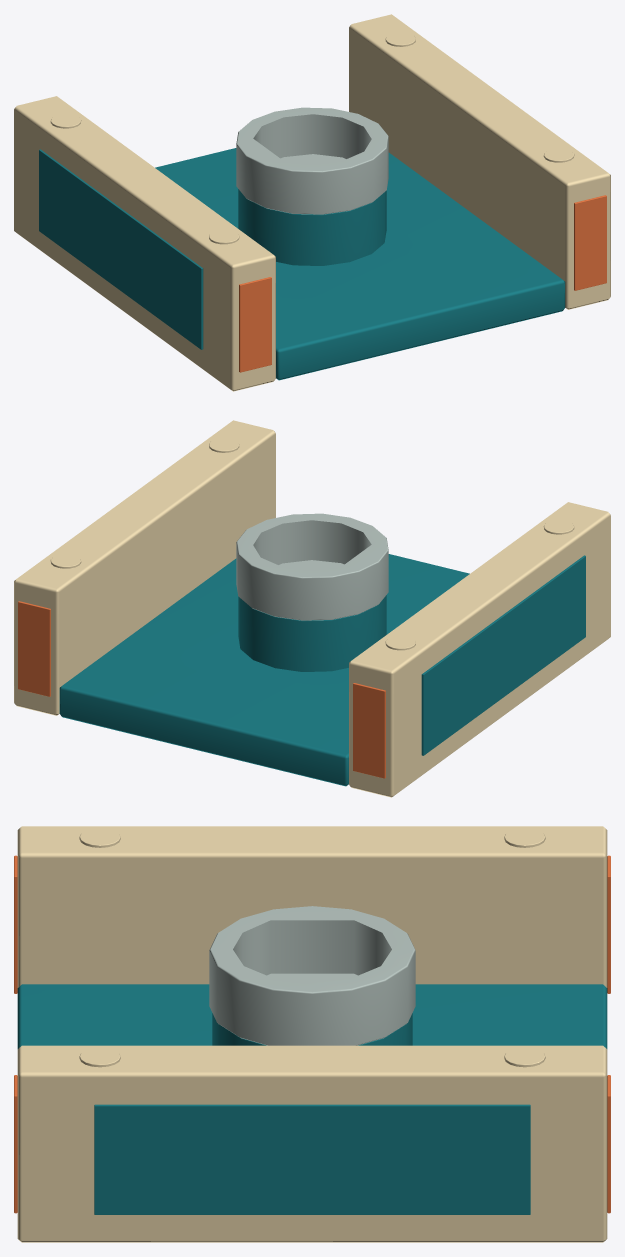
Rendered from cradle-lod-1.glb.
The picture shows the model from 3 angles, top to bottom: view 1: azimuth 30°, elevation 25°; view 2: azimuth 150°, elevation 25°; view 3: azimuth 270°, elevation 25°; orthographic projection. The views are drawn at different scales.
Visible parts, largest first — view 1: cradle_lod_1; view 2: cradle_lod_1; view 3: cradle_lod_1.
Boxes of the visible parts, x1,y1,x2,y2 form: cradle_lod_1: (14, 14, 610, 391); cradle_lod_1: (14, 420, 610, 797); cradle_lod_1: (14, 826, 610, 1242).
Size of the model in its own units: 2.02 by 0.65 by 2.02.
